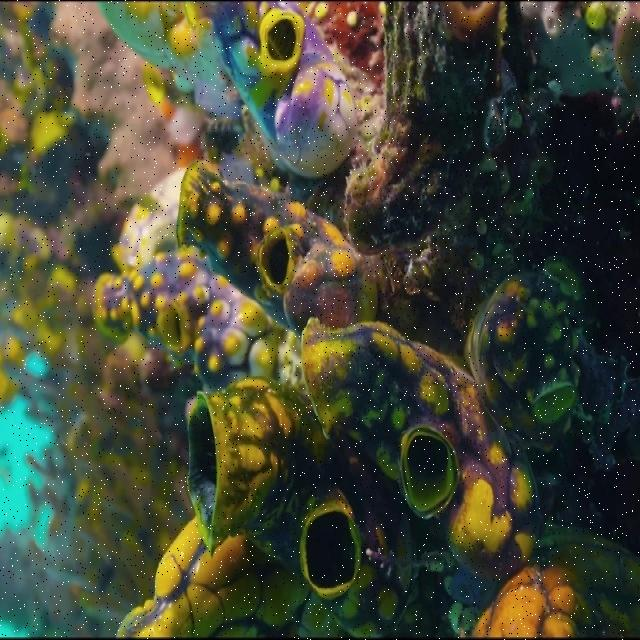reefs: (90, 1, 639, 639)
